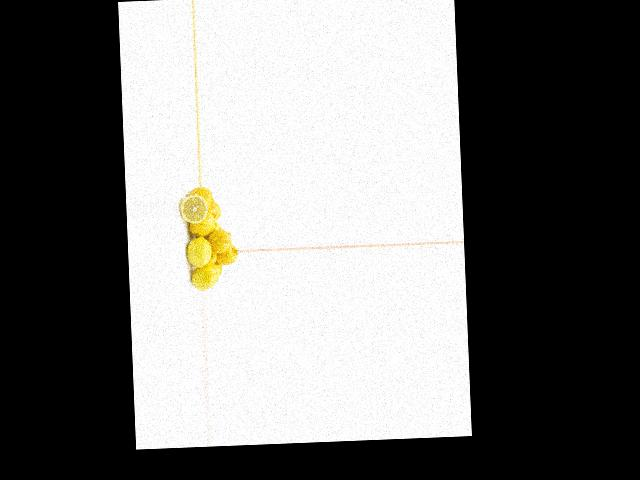lemon: (189, 188, 213, 210)
